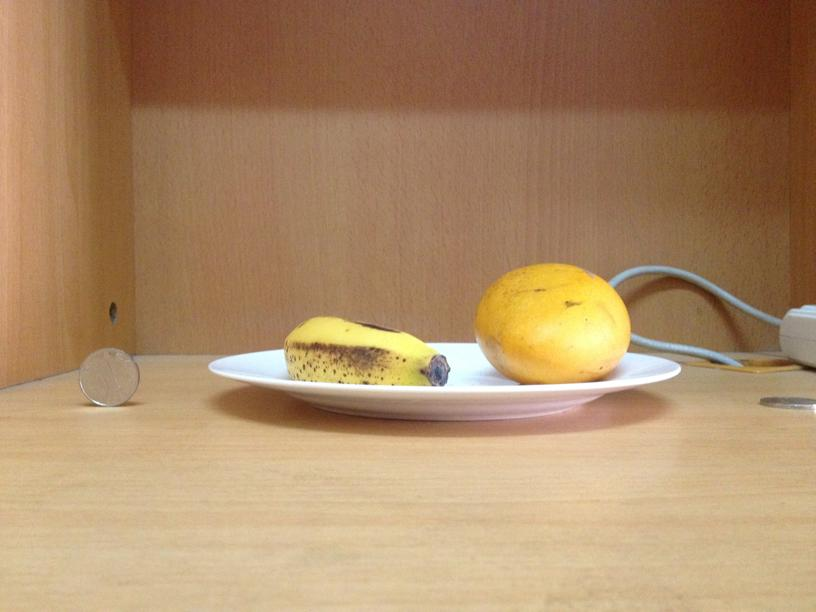banana: (280, 311, 448, 391)
coin: (74, 346, 139, 406)
mango: (472, 260, 632, 382)
